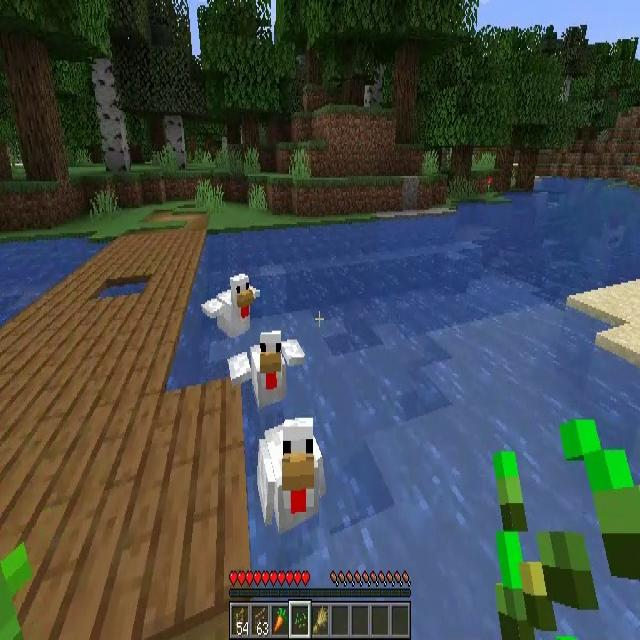duck: (258, 417, 326, 536), (227, 331, 305, 408), (201, 274, 260, 338)
